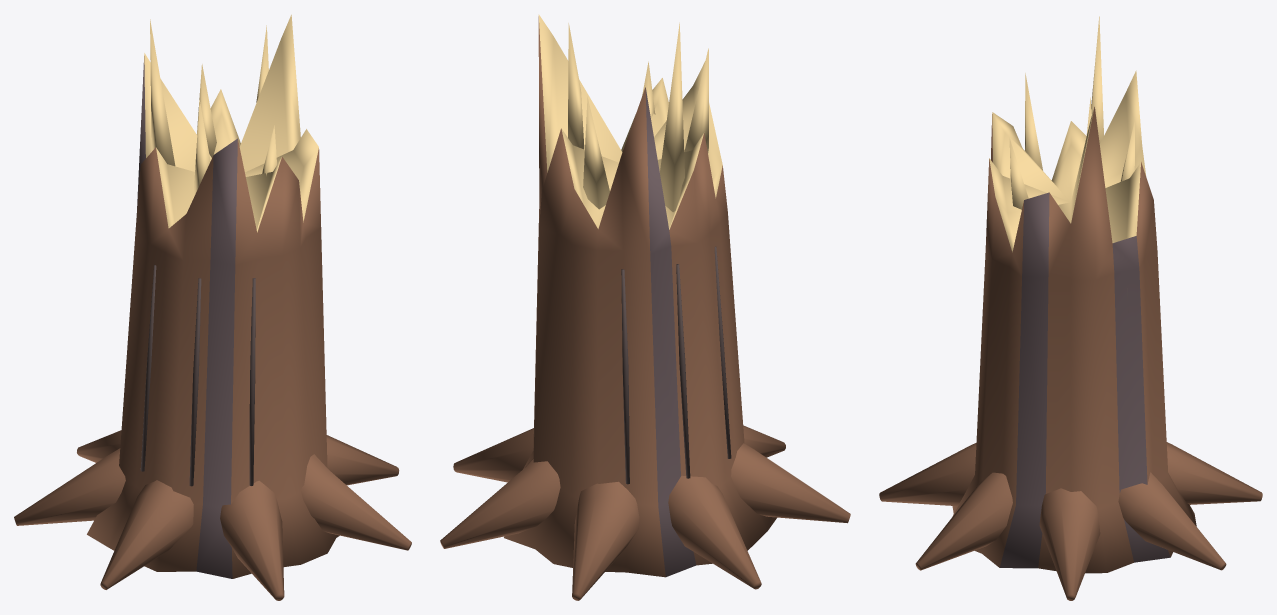
Rendered from SM_SF_FreshBrokenStump.fbx.
3 views of the same model, side by side, from view 1: azimuth 30°, elevation 25°; view 2: azimuth 150°, elevation 25°; view 3: azimuth 270°, elevation 25° (orthographic). The views are drawn at different scales.
Visible parts, largest first — view 1: SM_SF_FreshBrokenStump; view 2: SM_SF_FreshBrokenStump; view 3: SM_SF_FreshBrokenStump.
Part boxes in pixels (x1=…): SM_SF_FreshBrokenStump: x1=14, y1=14, x2=411, y2=600; SM_SF_FreshBrokenStump: x1=440, y1=14, x2=850, y2=600; SM_SF_FreshBrokenStump: x1=879, y1=16, x2=1262, y2=600.
Size of the model in its own units: 2.11 by 2.16 by 3.
